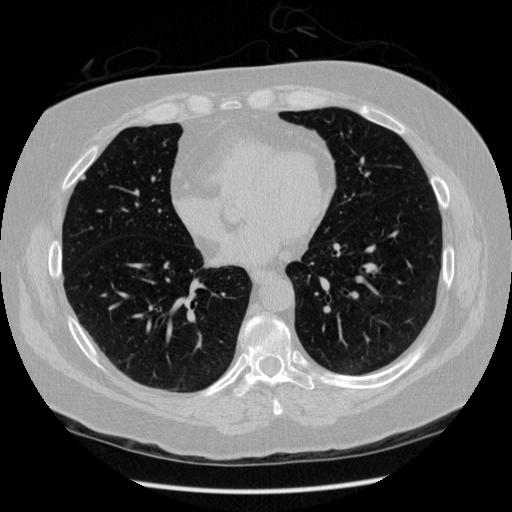nodule: (78, 173, 88, 183)
